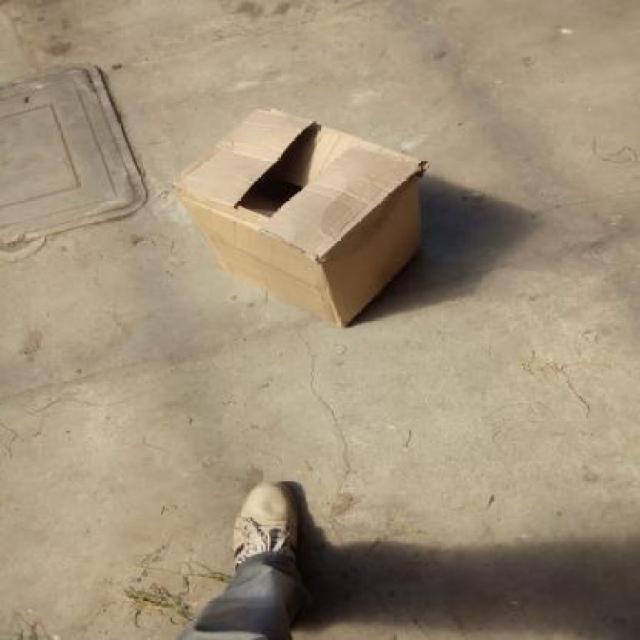box: (178, 102, 428, 330)
